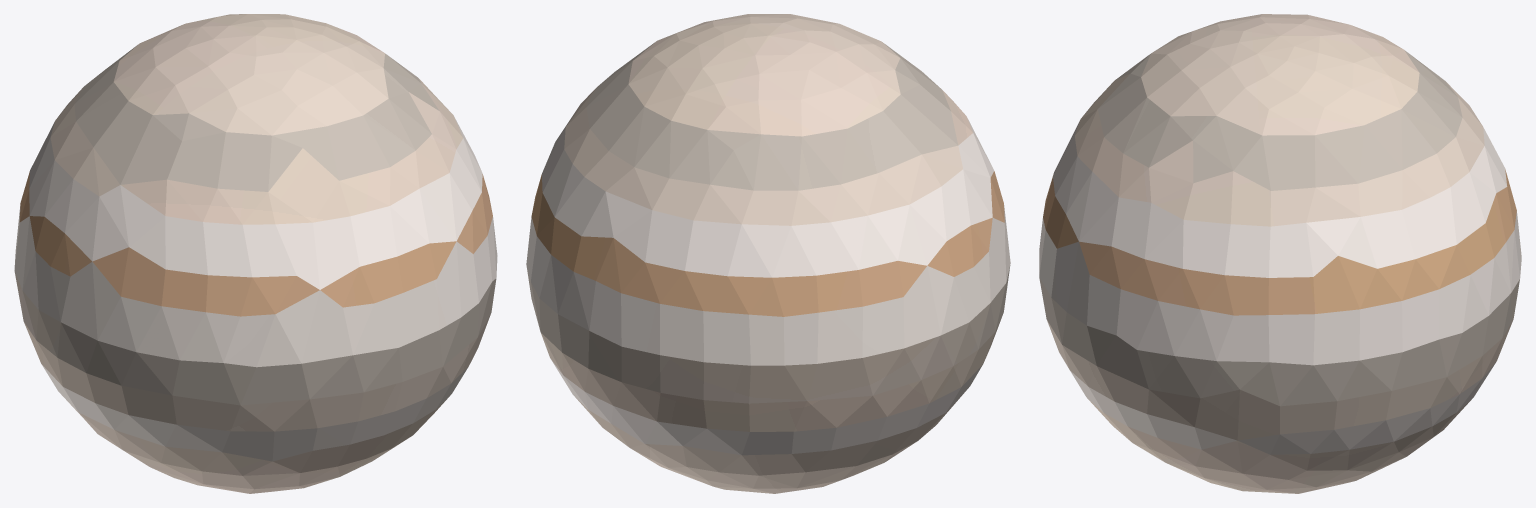
3 renders of one model, left to right at view 1: azimuth 30°, elevation 25°; view 2: azimuth 150°, elevation 25°; view 3: azimuth 270°, elevation 25°, orthographic.
Parts seen in each view (by area): view 1: Jupiter_Sphere; view 2: Jupiter_Sphere; view 3: Jupiter_Sphere.
Boxes of the visible parts, box(x1,y1,x2,y2) form: Jupiter_Sphere: box(14, 14, 497, 493); Jupiter_Sphere: box(526, 14, 1010, 493); Jupiter_Sphere: box(1039, 14, 1521, 493).
Size of the model in its own units: 17 by 16.97 by 16.98.
2 materials, 1 textured.
